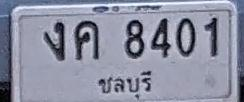0: (175, 18, 196, 56)
1: (204, 16, 218, 56)
4: (150, 17, 171, 58)
8: (124, 19, 145, 58)
A04: (74, 20, 100, 60)
A07: (43, 21, 65, 61)
CBI: (96, 71, 153, 102)
